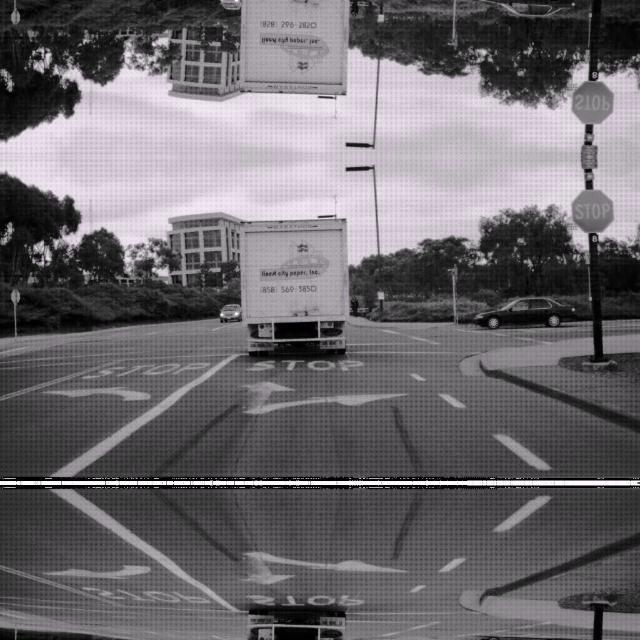stop: (570, 186, 614, 232), (570, 80, 614, 126)
